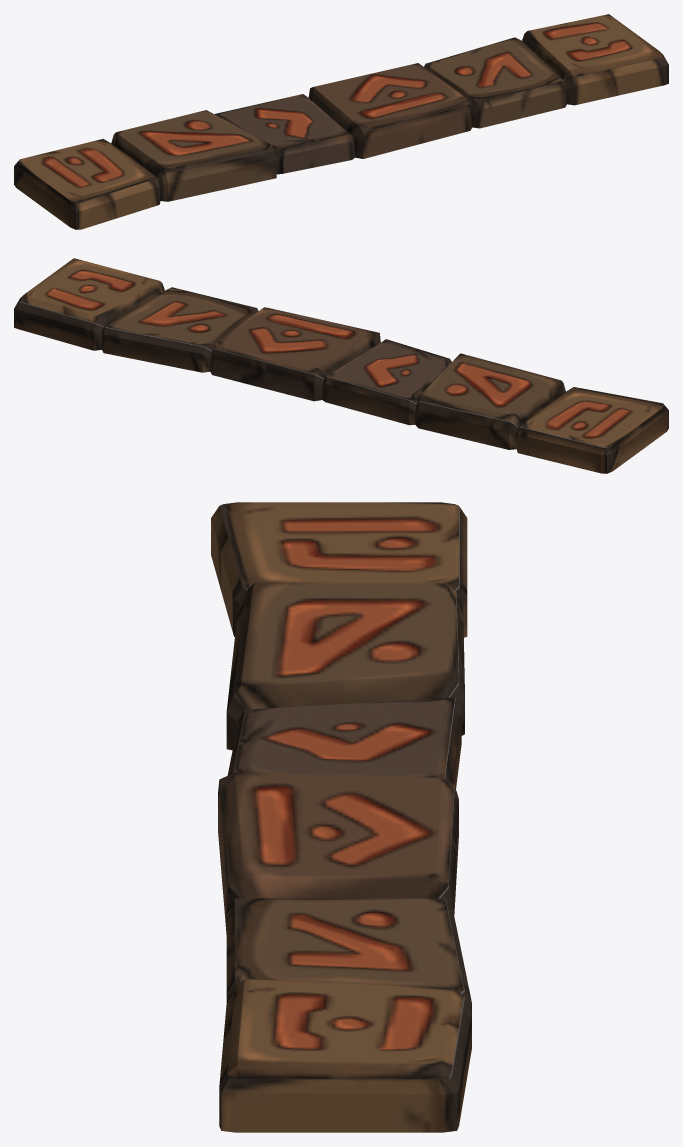
The model's file is Moonset_FBX_little_dalle_03.fbx.
The picture shows the model from 3 angles, top to bottom: view 1: azimuth 30°, elevation 25°; view 2: azimuth 150°, elevation 25°; view 3: azimuth 270°, elevation 25°; orthographic projection. The views are drawn at different scales.
Visible parts, largest first — view 1: little_dalle_03; view 2: little_dalle_03; view 3: little_dalle_03.
Part boxes in pixels (x1,y1,x2,y2): little_dalle_03: [14, 14, 668, 229]; little_dalle_03: [14, 258, 668, 473]; little_dalle_03: [211, 502, 471, 1132].
Size of the model in its own units: 5.76 by 0.2881 by 1.09.
